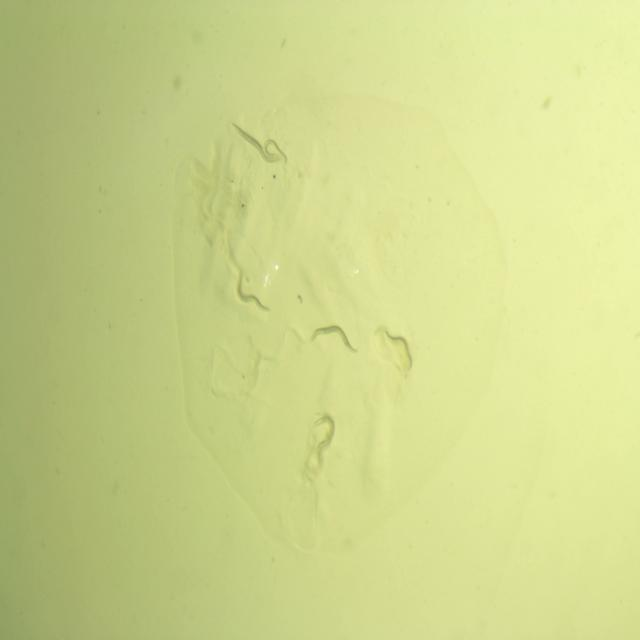worm: (227, 116, 282, 165), (307, 320, 359, 364), (233, 266, 270, 324), (307, 405, 339, 466), (379, 326, 416, 376), (261, 132, 290, 169)
